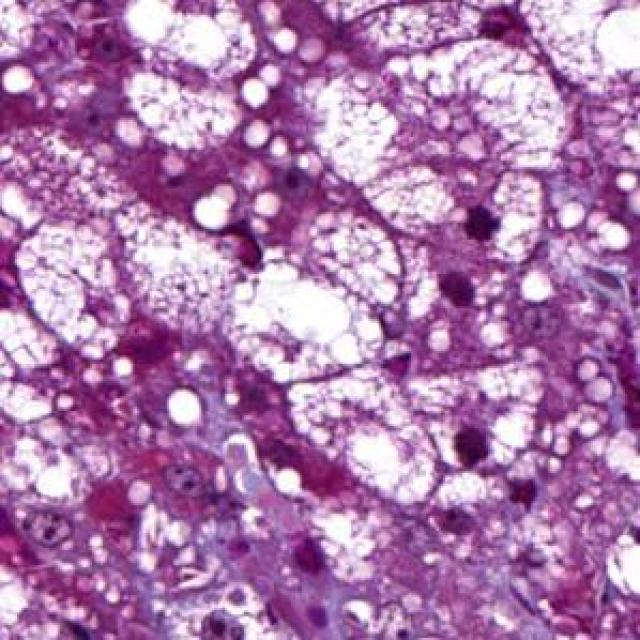ballooning: (280, 362, 446, 509), (216, 261, 392, 392), (15, 223, 137, 366)
